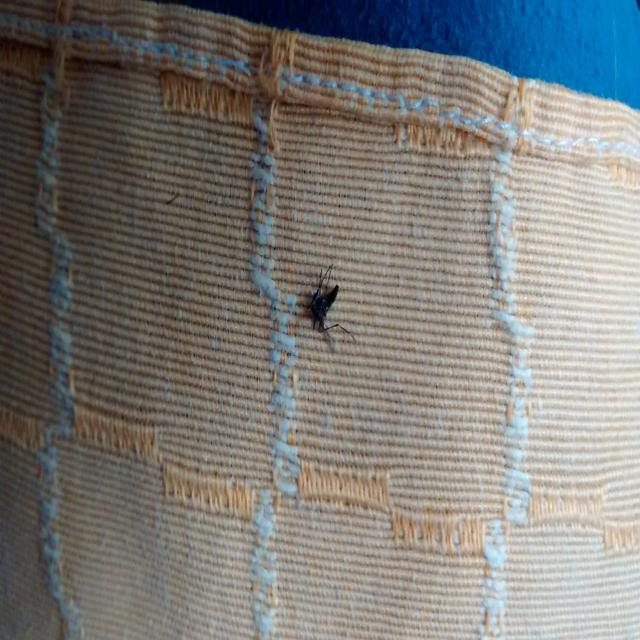albopictus: (298, 253, 360, 350)
